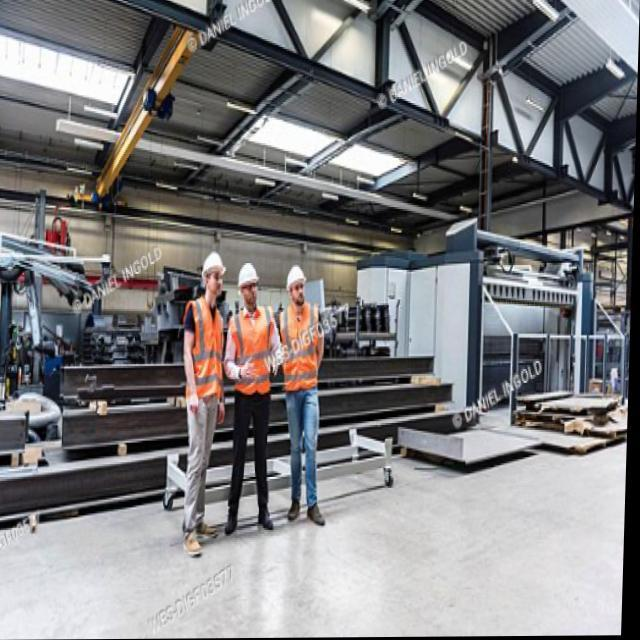boots: (179, 519, 220, 559), (223, 506, 276, 535), (285, 496, 328, 531)
helmet: (199, 249, 228, 298), (236, 262, 262, 312), (284, 263, 309, 309)
vest: (181, 296, 228, 403), (225, 304, 277, 396), (274, 301, 324, 394)
